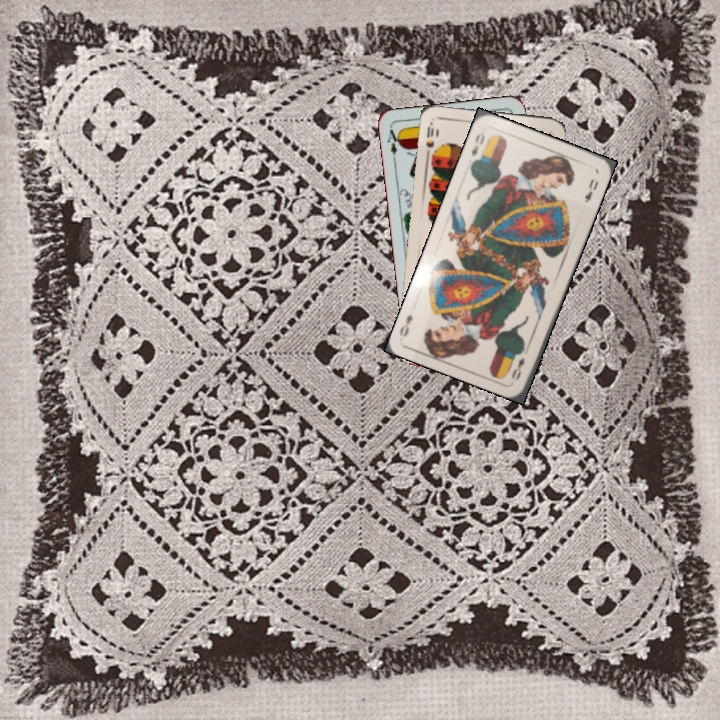EA: (383, 125, 403, 165)
EO: (467, 129, 488, 165), (507, 353, 527, 383)
S10: (422, 119, 439, 160)
